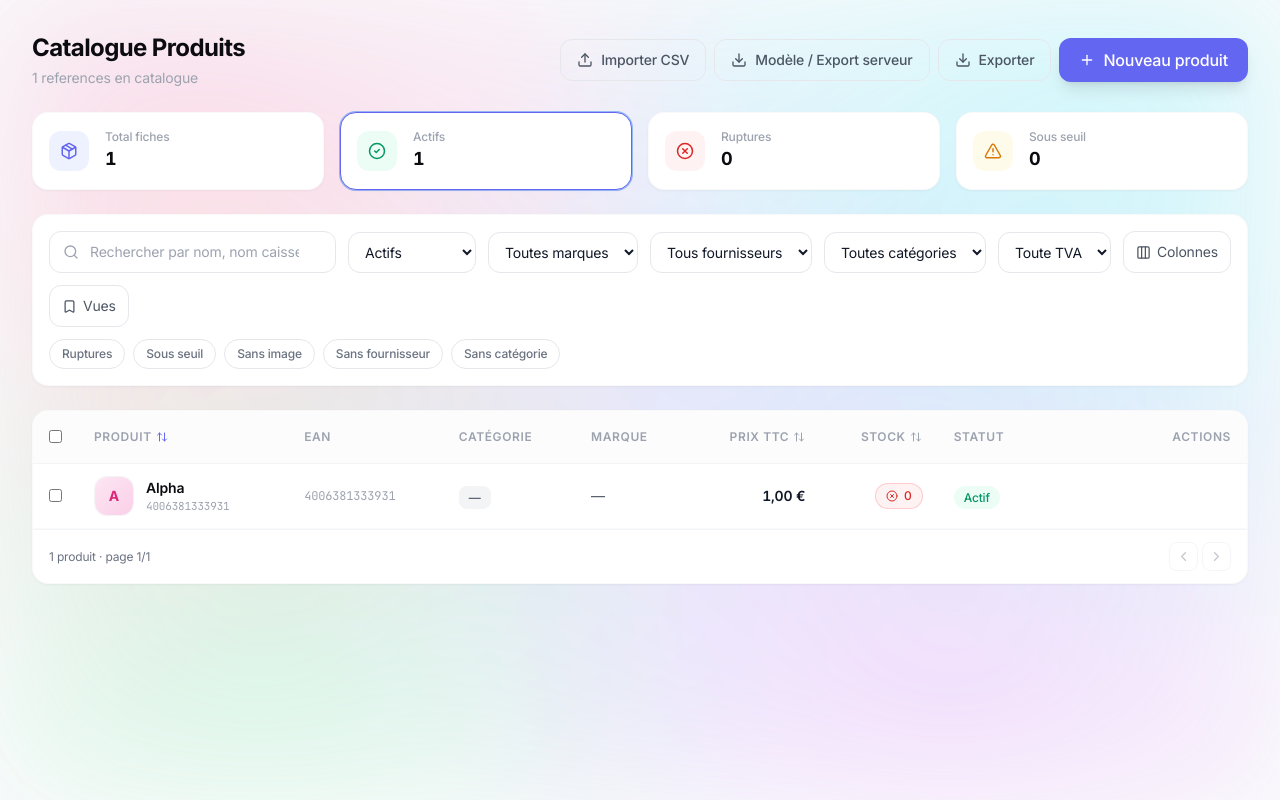
Catalogue — recherche fluide (focus, pas de remount, debounce) › réinitialiser vide la recherche et relance la liste complète
In the field with placeholder "Rechercher par nom, nom caisse, EAN ou SKU...": x=192, y=252 [49,231,336,273], type "test"
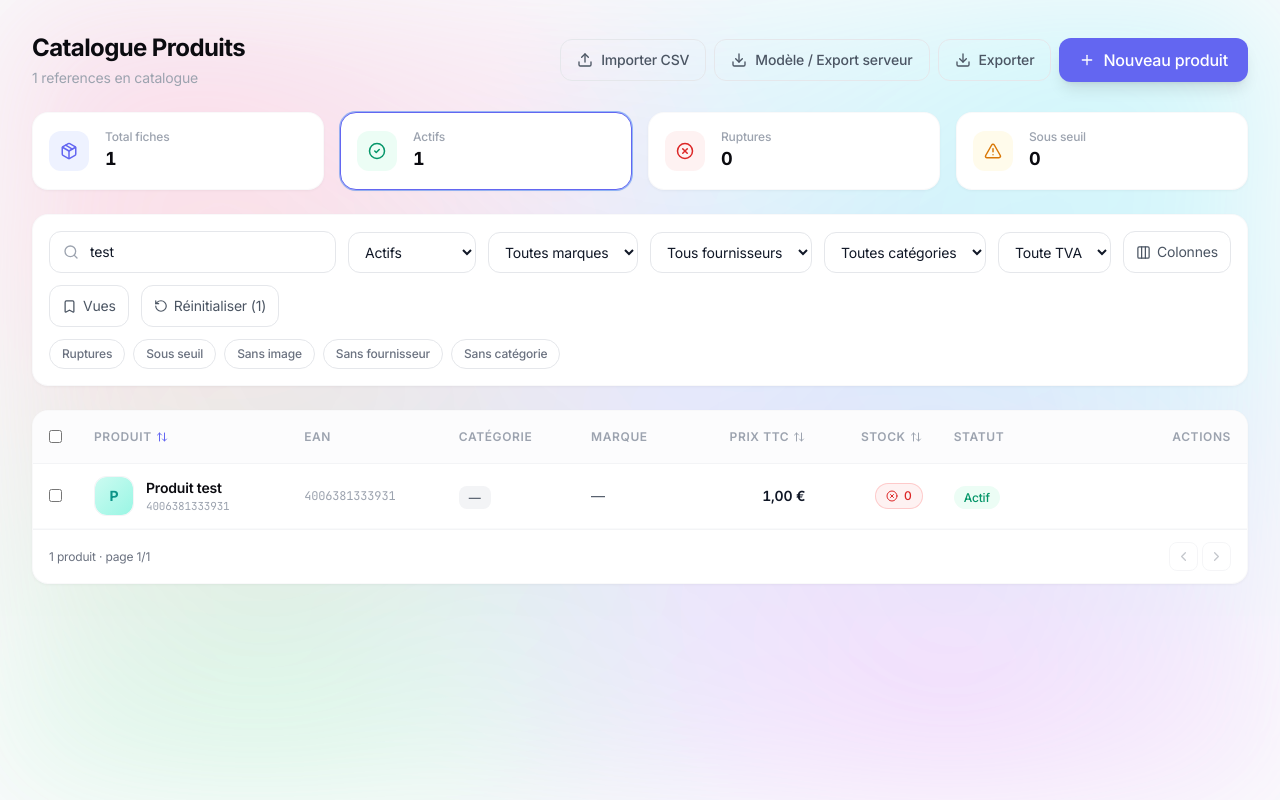
Check: the text "Produit test" is shown, box [146,478,230,498]
Click the button "Réinitialiser (1)": x=210, y=306 [141,285,279,327]
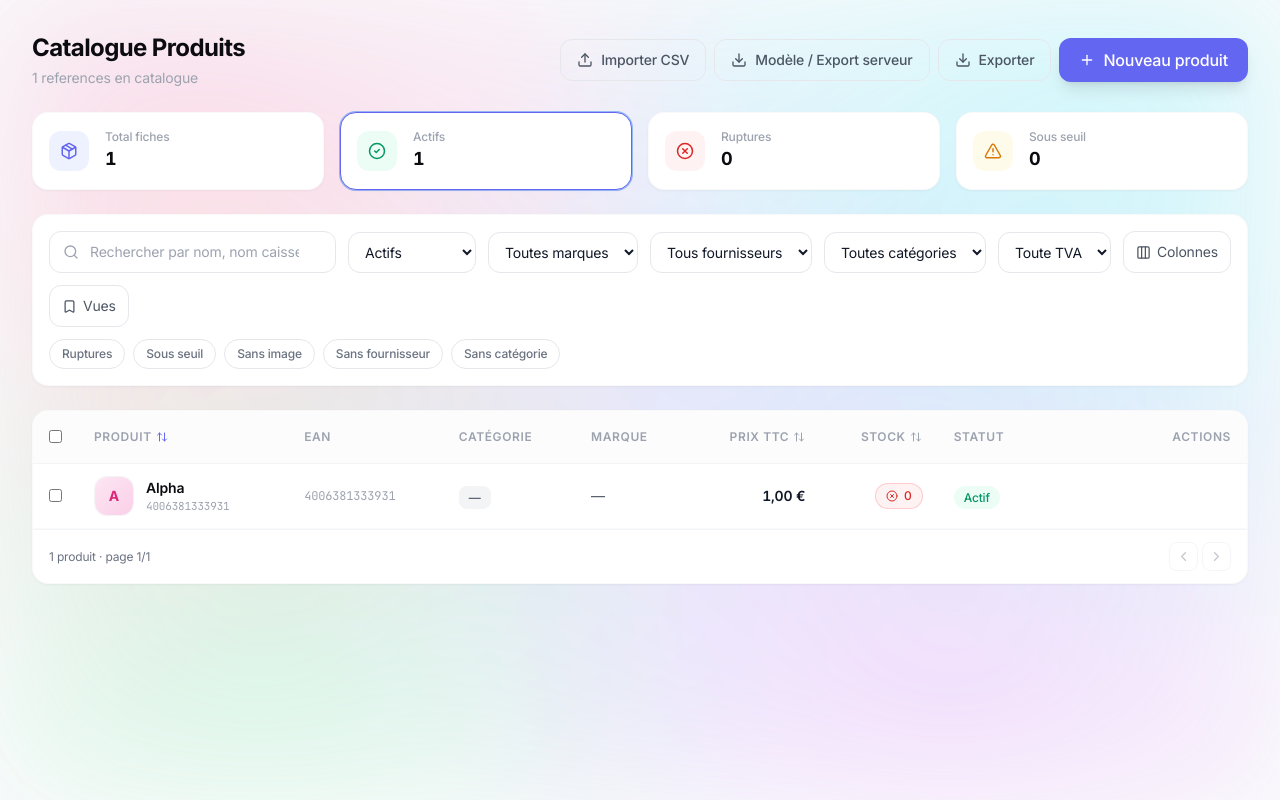
Check: the field with placeholder "Rechercher par nom, nom caisse, EAN ou SKU..." is empty, box [49,231,336,273]
Check: the text "Alpha" is shown, box [146,479,184,496]
